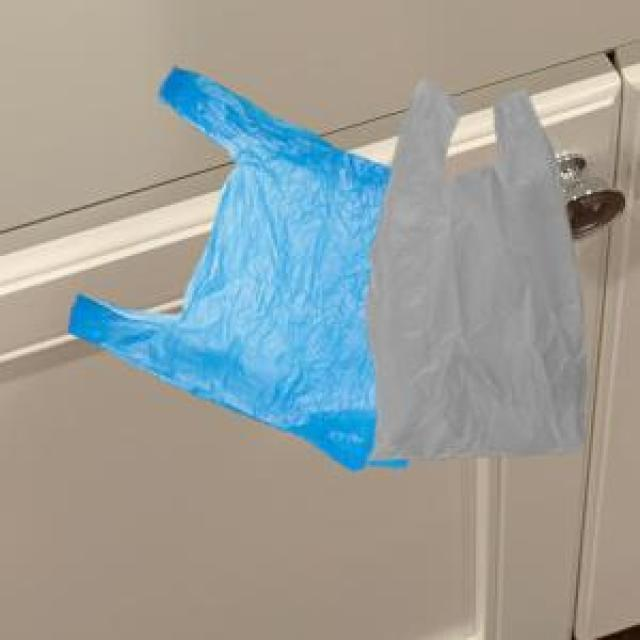Single-layer Plastic: (69, 68, 390, 468), (372, 82, 582, 457)
